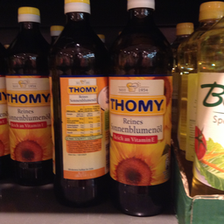oil: (108, 1, 174, 215), (51, 1, 109, 206), (5, 5, 53, 184)
